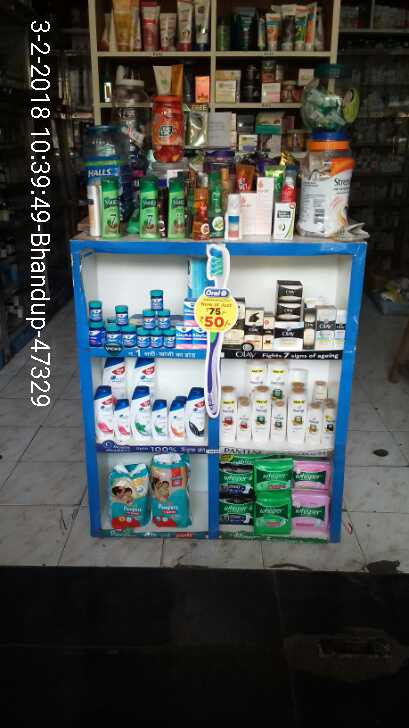beauty: (94, 383, 116, 443), (131, 383, 154, 439), (186, 388, 208, 441), (252, 384, 272, 442), (273, 280, 299, 324), (286, 388, 304, 450), (305, 400, 324, 452), (245, 308, 265, 356), (167, 396, 186, 444), (110, 399, 131, 439), (315, 305, 333, 350), (218, 388, 232, 444), (322, 402, 338, 450), (239, 397, 254, 444), (153, 396, 169, 439), (273, 399, 284, 446), (336, 307, 346, 350)
pharmacy: (156, 454, 196, 531), (109, 463, 148, 533), (288, 488, 328, 533), (250, 496, 292, 536), (216, 459, 253, 496), (290, 459, 331, 491), (258, 456, 289, 493), (220, 497, 252, 524), (139, 310, 164, 333), (87, 319, 103, 350), (113, 306, 132, 330), (150, 289, 170, 310), (81, 302, 103, 320), (145, 333, 165, 352), (162, 326, 177, 350), (105, 322, 118, 344), (120, 324, 133, 346), (133, 331, 149, 348), (157, 312, 174, 327)
